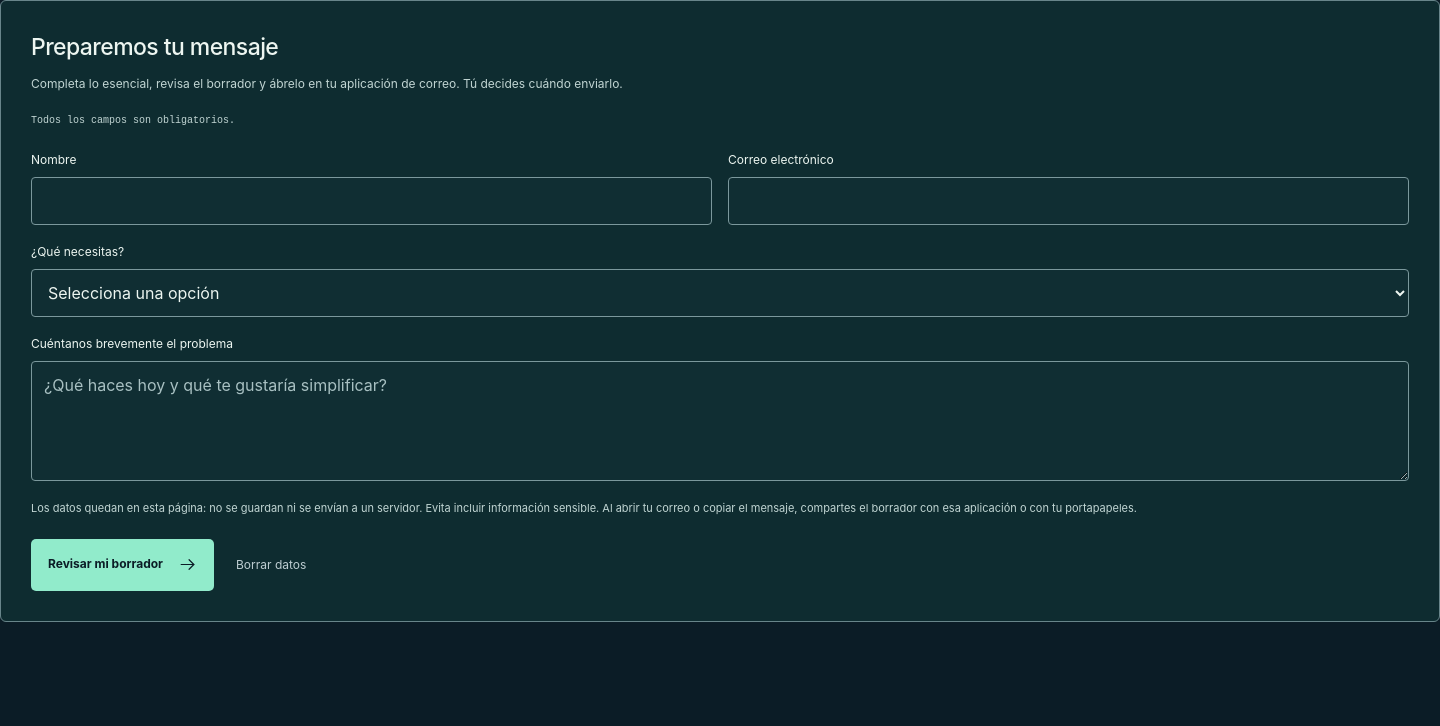
local contact draft › invalidates an old draft as soon as a field is changed
Step 1. Type "Ana Pérez" into the field labelled "Nombre" → {"x": 372, "y": 201}, box [31,177,712,225]
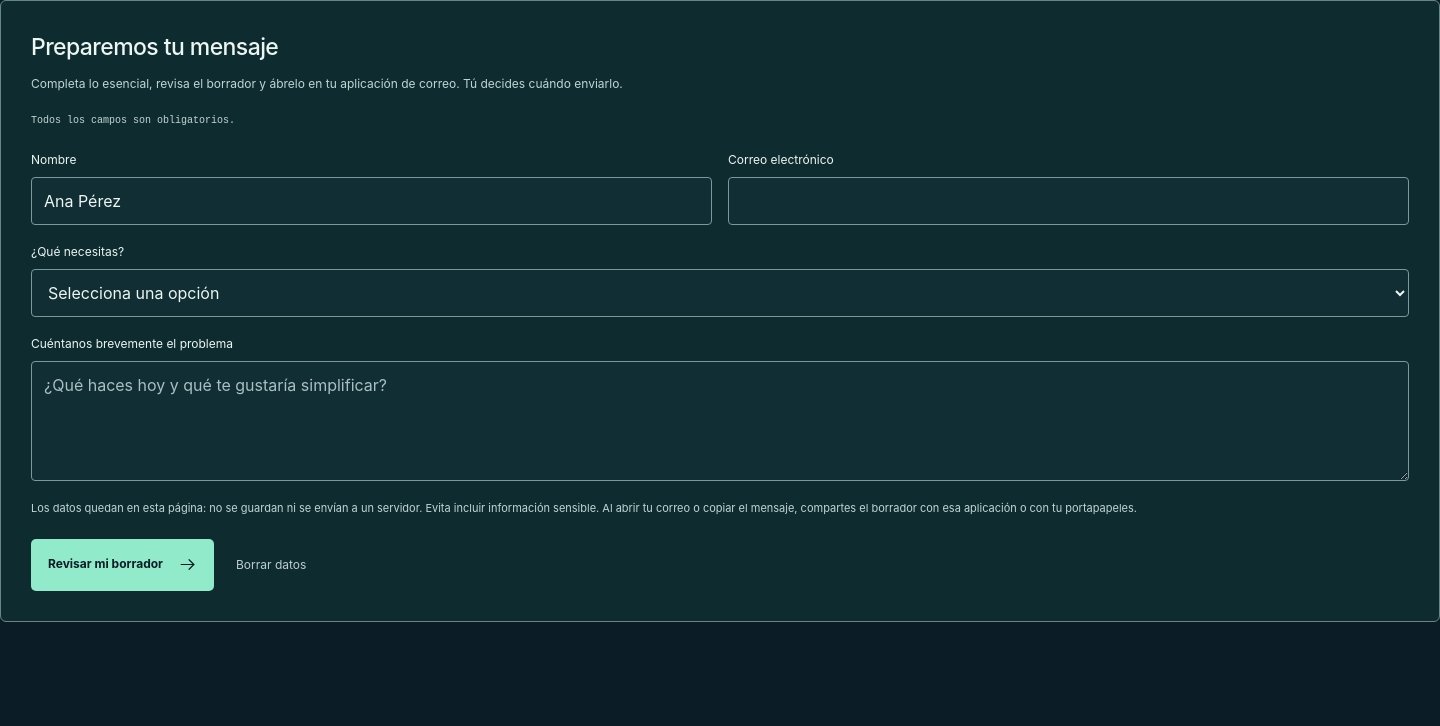
Step 2. Type "ana@example.org" into the field labelled "Correo electrónico" → {"x": 1068, "y": 201}, box [728,177,1409,225]
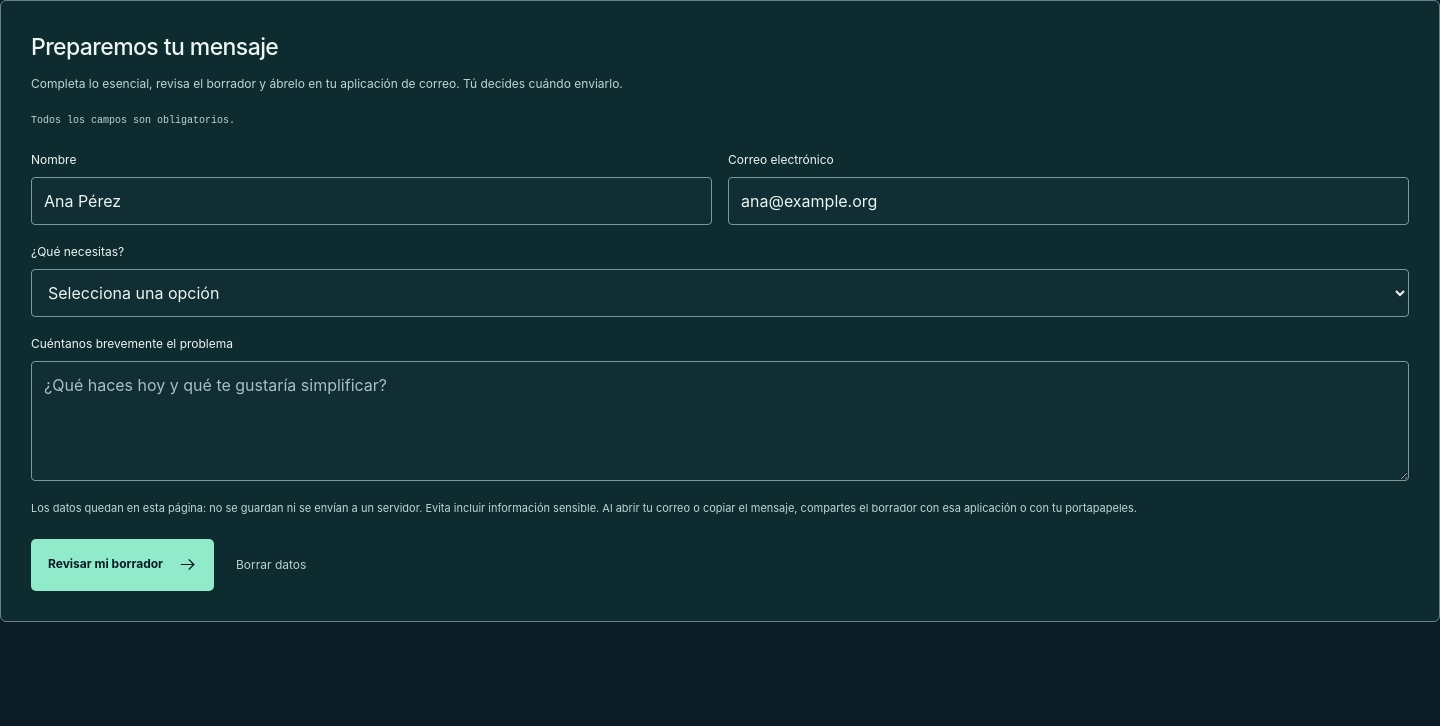
Step 3. Select "Automatizar una tarea o reporte" in the dropdown labelled "¿Qué necesitas?" → {"x": 720, "y": 293}, box [31,269,1409,317]
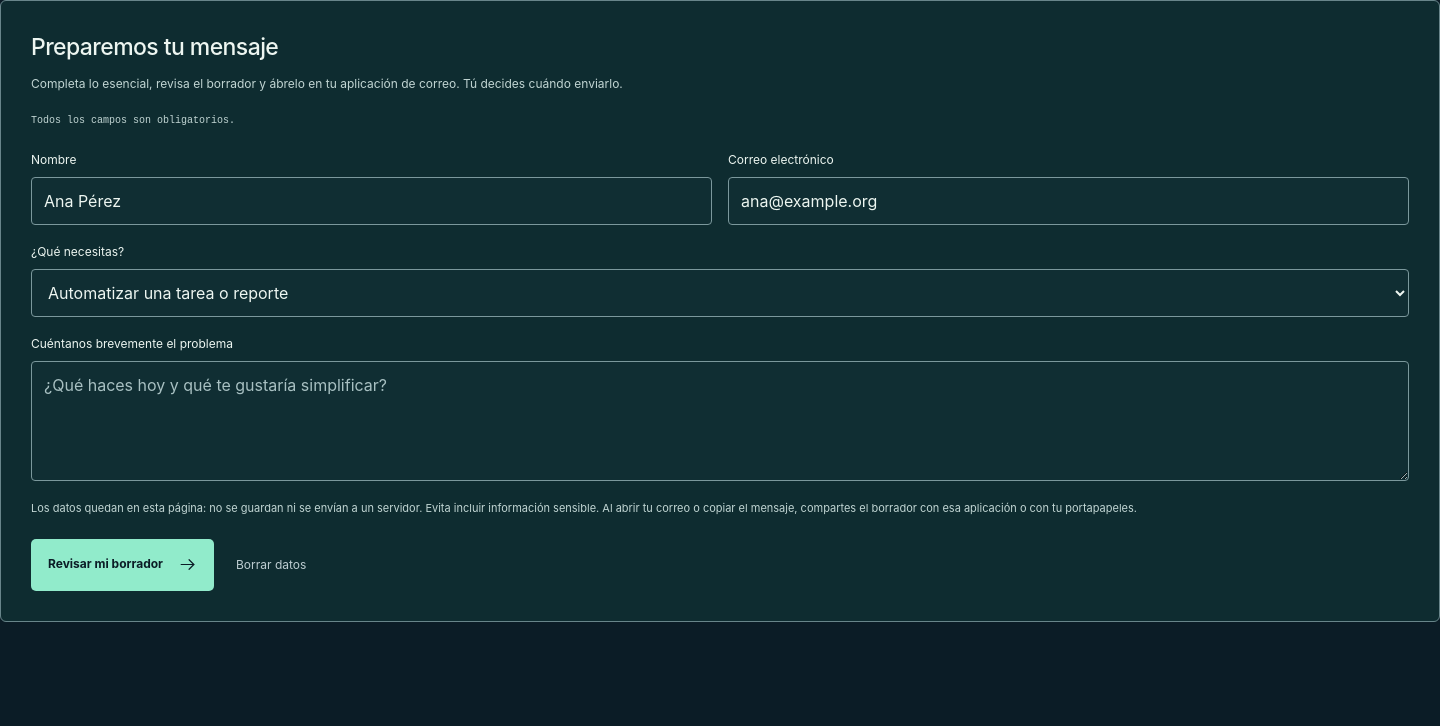
Step 4. Type "Quiero consolidar las planillas de mi negocio." into the text box labelled "Cuéntanos brevemente el problema" → {"x": 720, "y": 421}, box [31,361,1409,481]
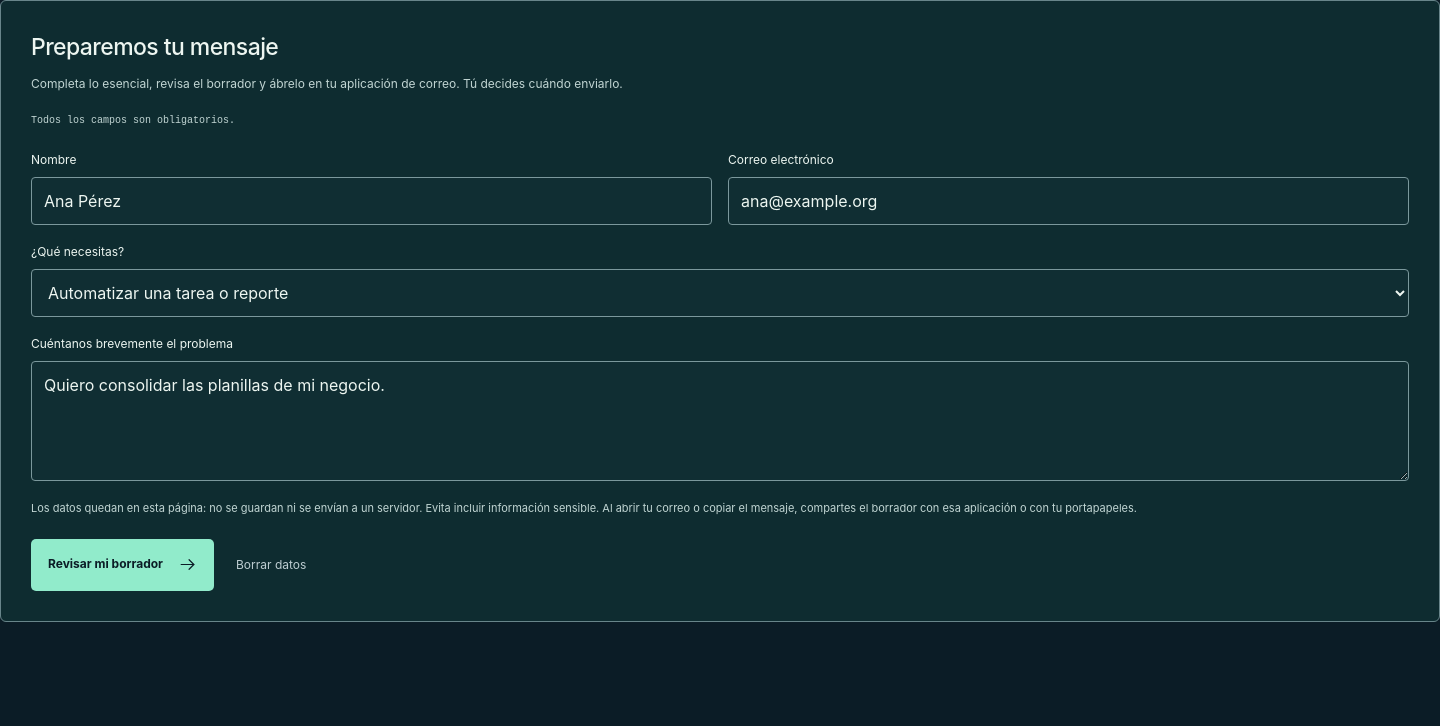
Step 5. Click the button "Revisar mi borrador" → {"x": 122, "y": 565}, box [31,539,214,591]
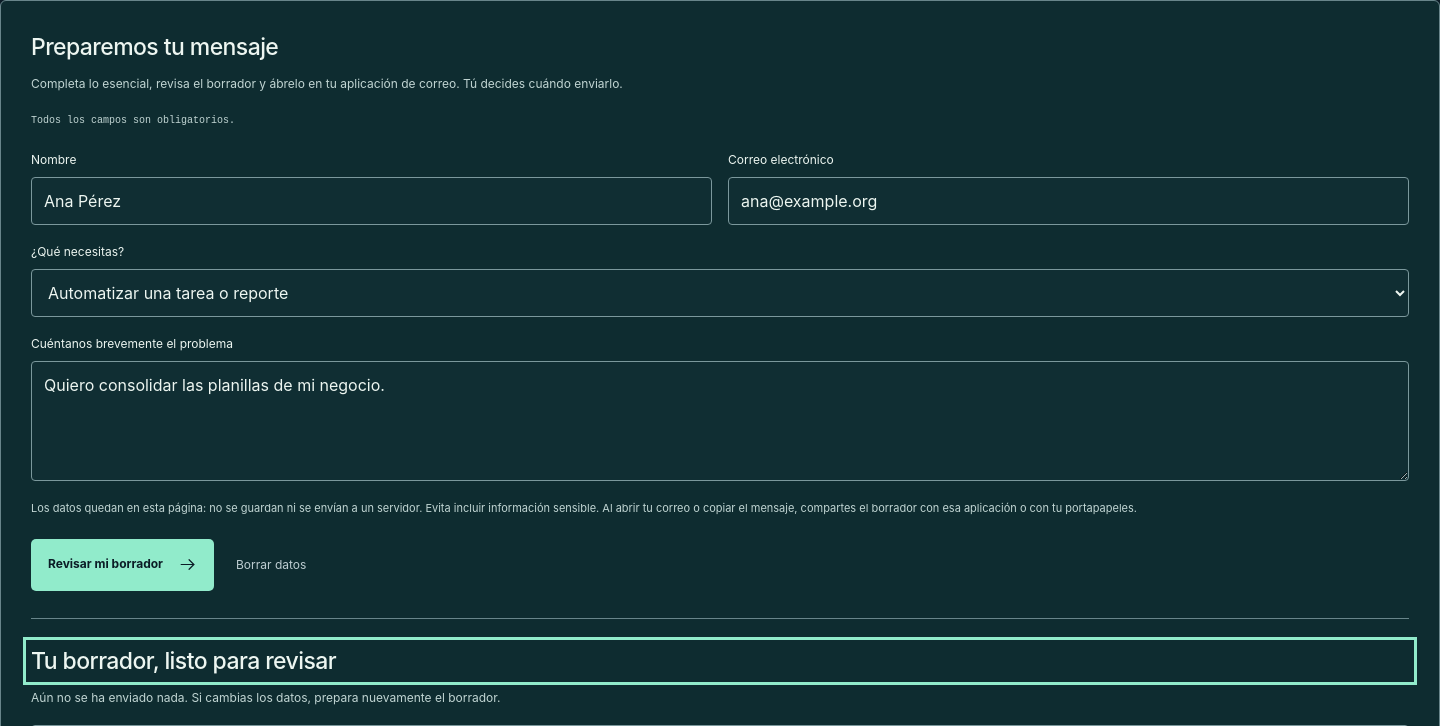
Step 6. Type " López" into the field labelled "Nombre" → {"x": 372, "y": 201}, box [31,177,712,225]
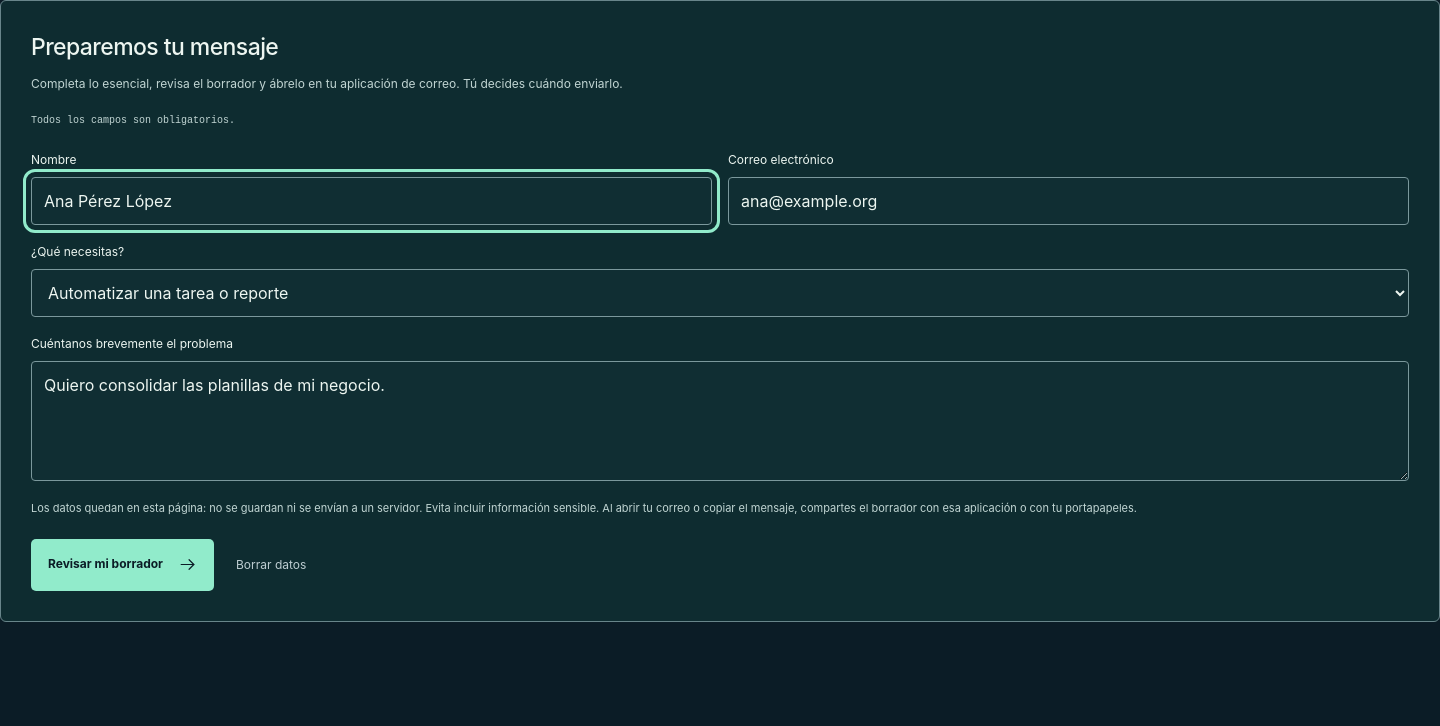
Expected: the field labelled "Nombre" holds "Ana Pérez López", [31,177,712,225]
Expected: the heading "Tu borrador, listo para revisar" is gone
